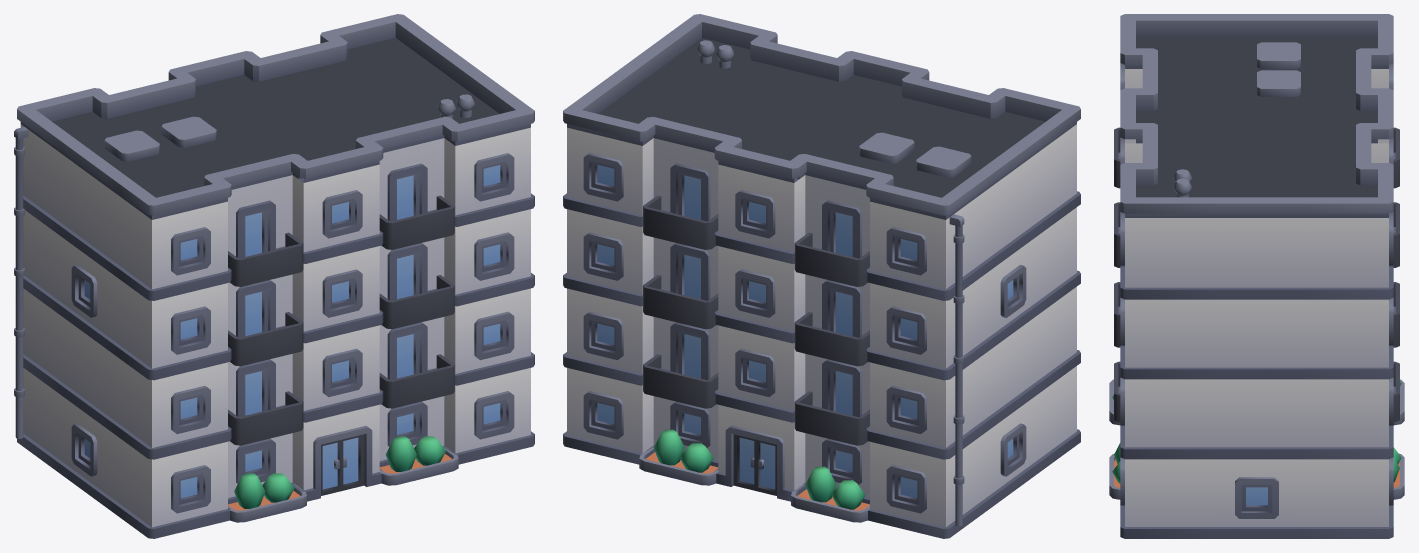
File: building-j.glb
The picture shows the model from 3 angles, left to right: view 1: azimuth 30°, elevation 25°; view 2: azimuth 150°, elevation 25°; view 3: azimuth 270°, elevation 25°; orthographic projection.
Visible parts, largest first — view 1: building-j; view 2: building-j; view 3: building-j.
Part boxes in pixels (x1,y1,x2,y2): building-j: (14, 14, 534, 538); building-j: (563, 14, 1080, 538); building-j: (1109, 14, 1404, 538).
Size of the model in its own units: 2.08 by 1.69 by 1.34.
Materials: 1 (1 with a texture image).
